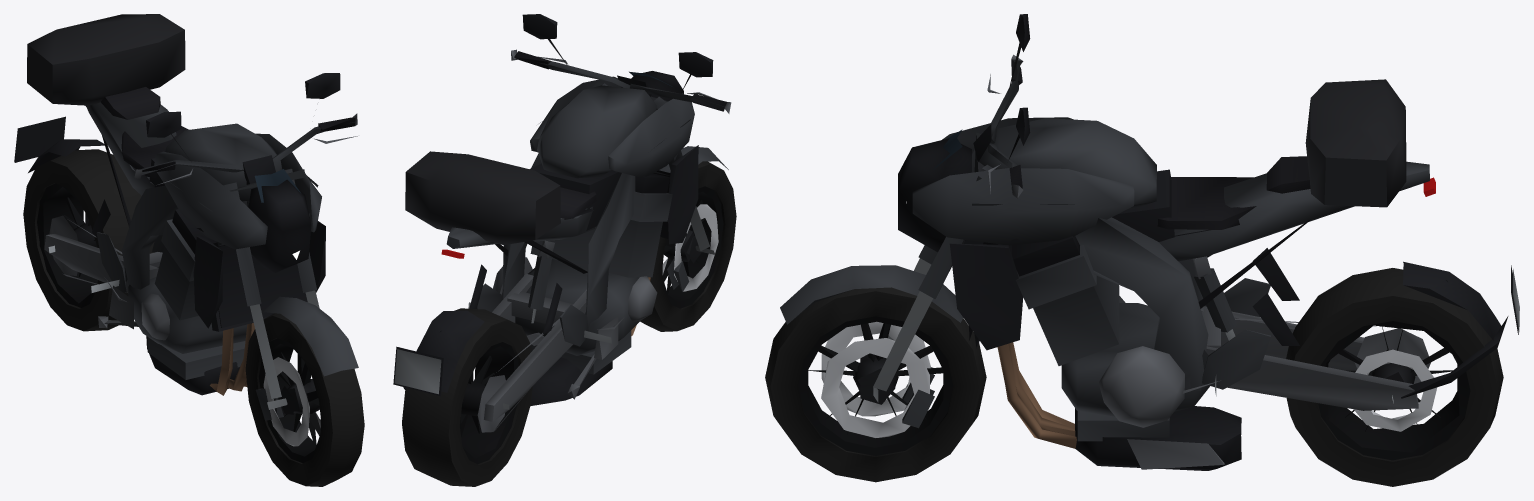
Rendered from bike07_mt09.glb.
The picture shows the model from 3 angles, left to right: view 1: azimuth 30°, elevation 25°; view 2: azimuth 150°, elevation 25°; view 3: azimuth 270°, elevation 25°; orthographic projection. The views are drawn at different scales.
Parts seen in each view (by area): view 1: body, wheel_front, wheel_rear, luggage; view 2: body, wheel_rear, luggage, wheel_front; view 3: body, wheel_front, wheel_rear, luggage.
Part boxes in pixels (x1,y1,x2,y2): body: (14,73,358,420); wheel_front: (245,313,364,486); wheel_rear: (23,149,154,331); luggage: (27,14,185,105); body: (393,14,731,431); wheel_rear: (402,308,532,486); luggage: (405,151,560,244); wheel_front: (640,161,736,331); body: (780,14,1519,470); wheel_front: (765,287,986,482); wheel_rear: (1286,268,1503,486); luggage: (1305,79,1406,207).
Bounding box in the file's own units: 0.84 × 1.24 × 2.04.
